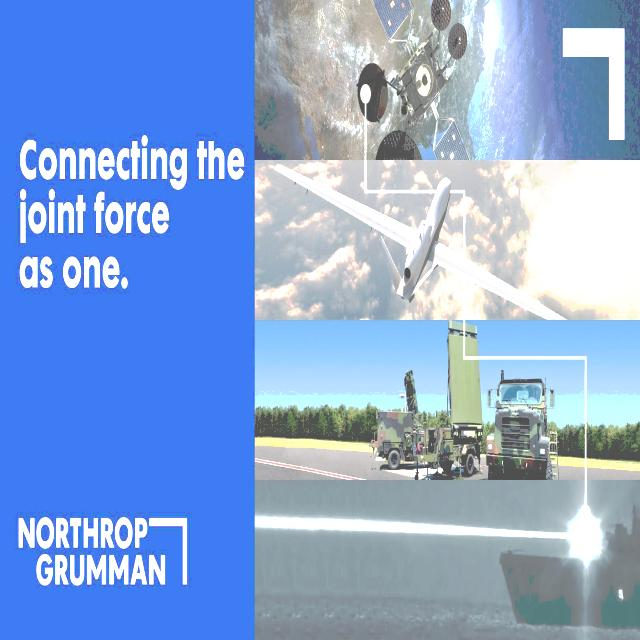Aircraft: (270, 176, 632, 321)
